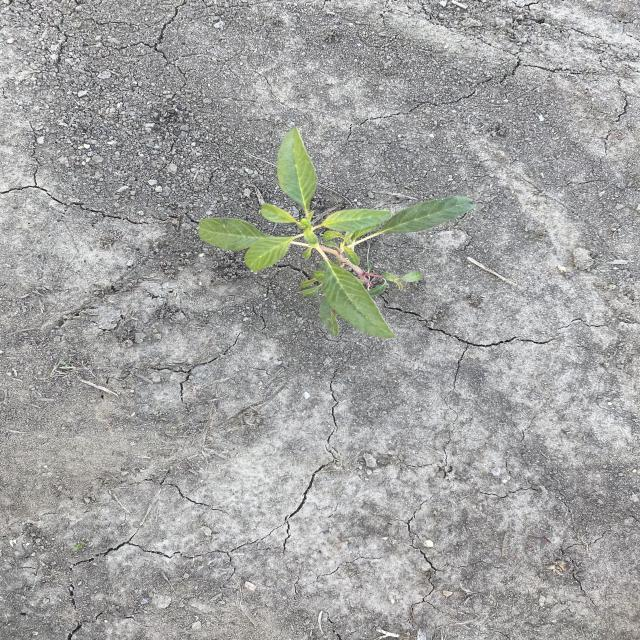Waterhemp: (196, 124, 478, 341)
